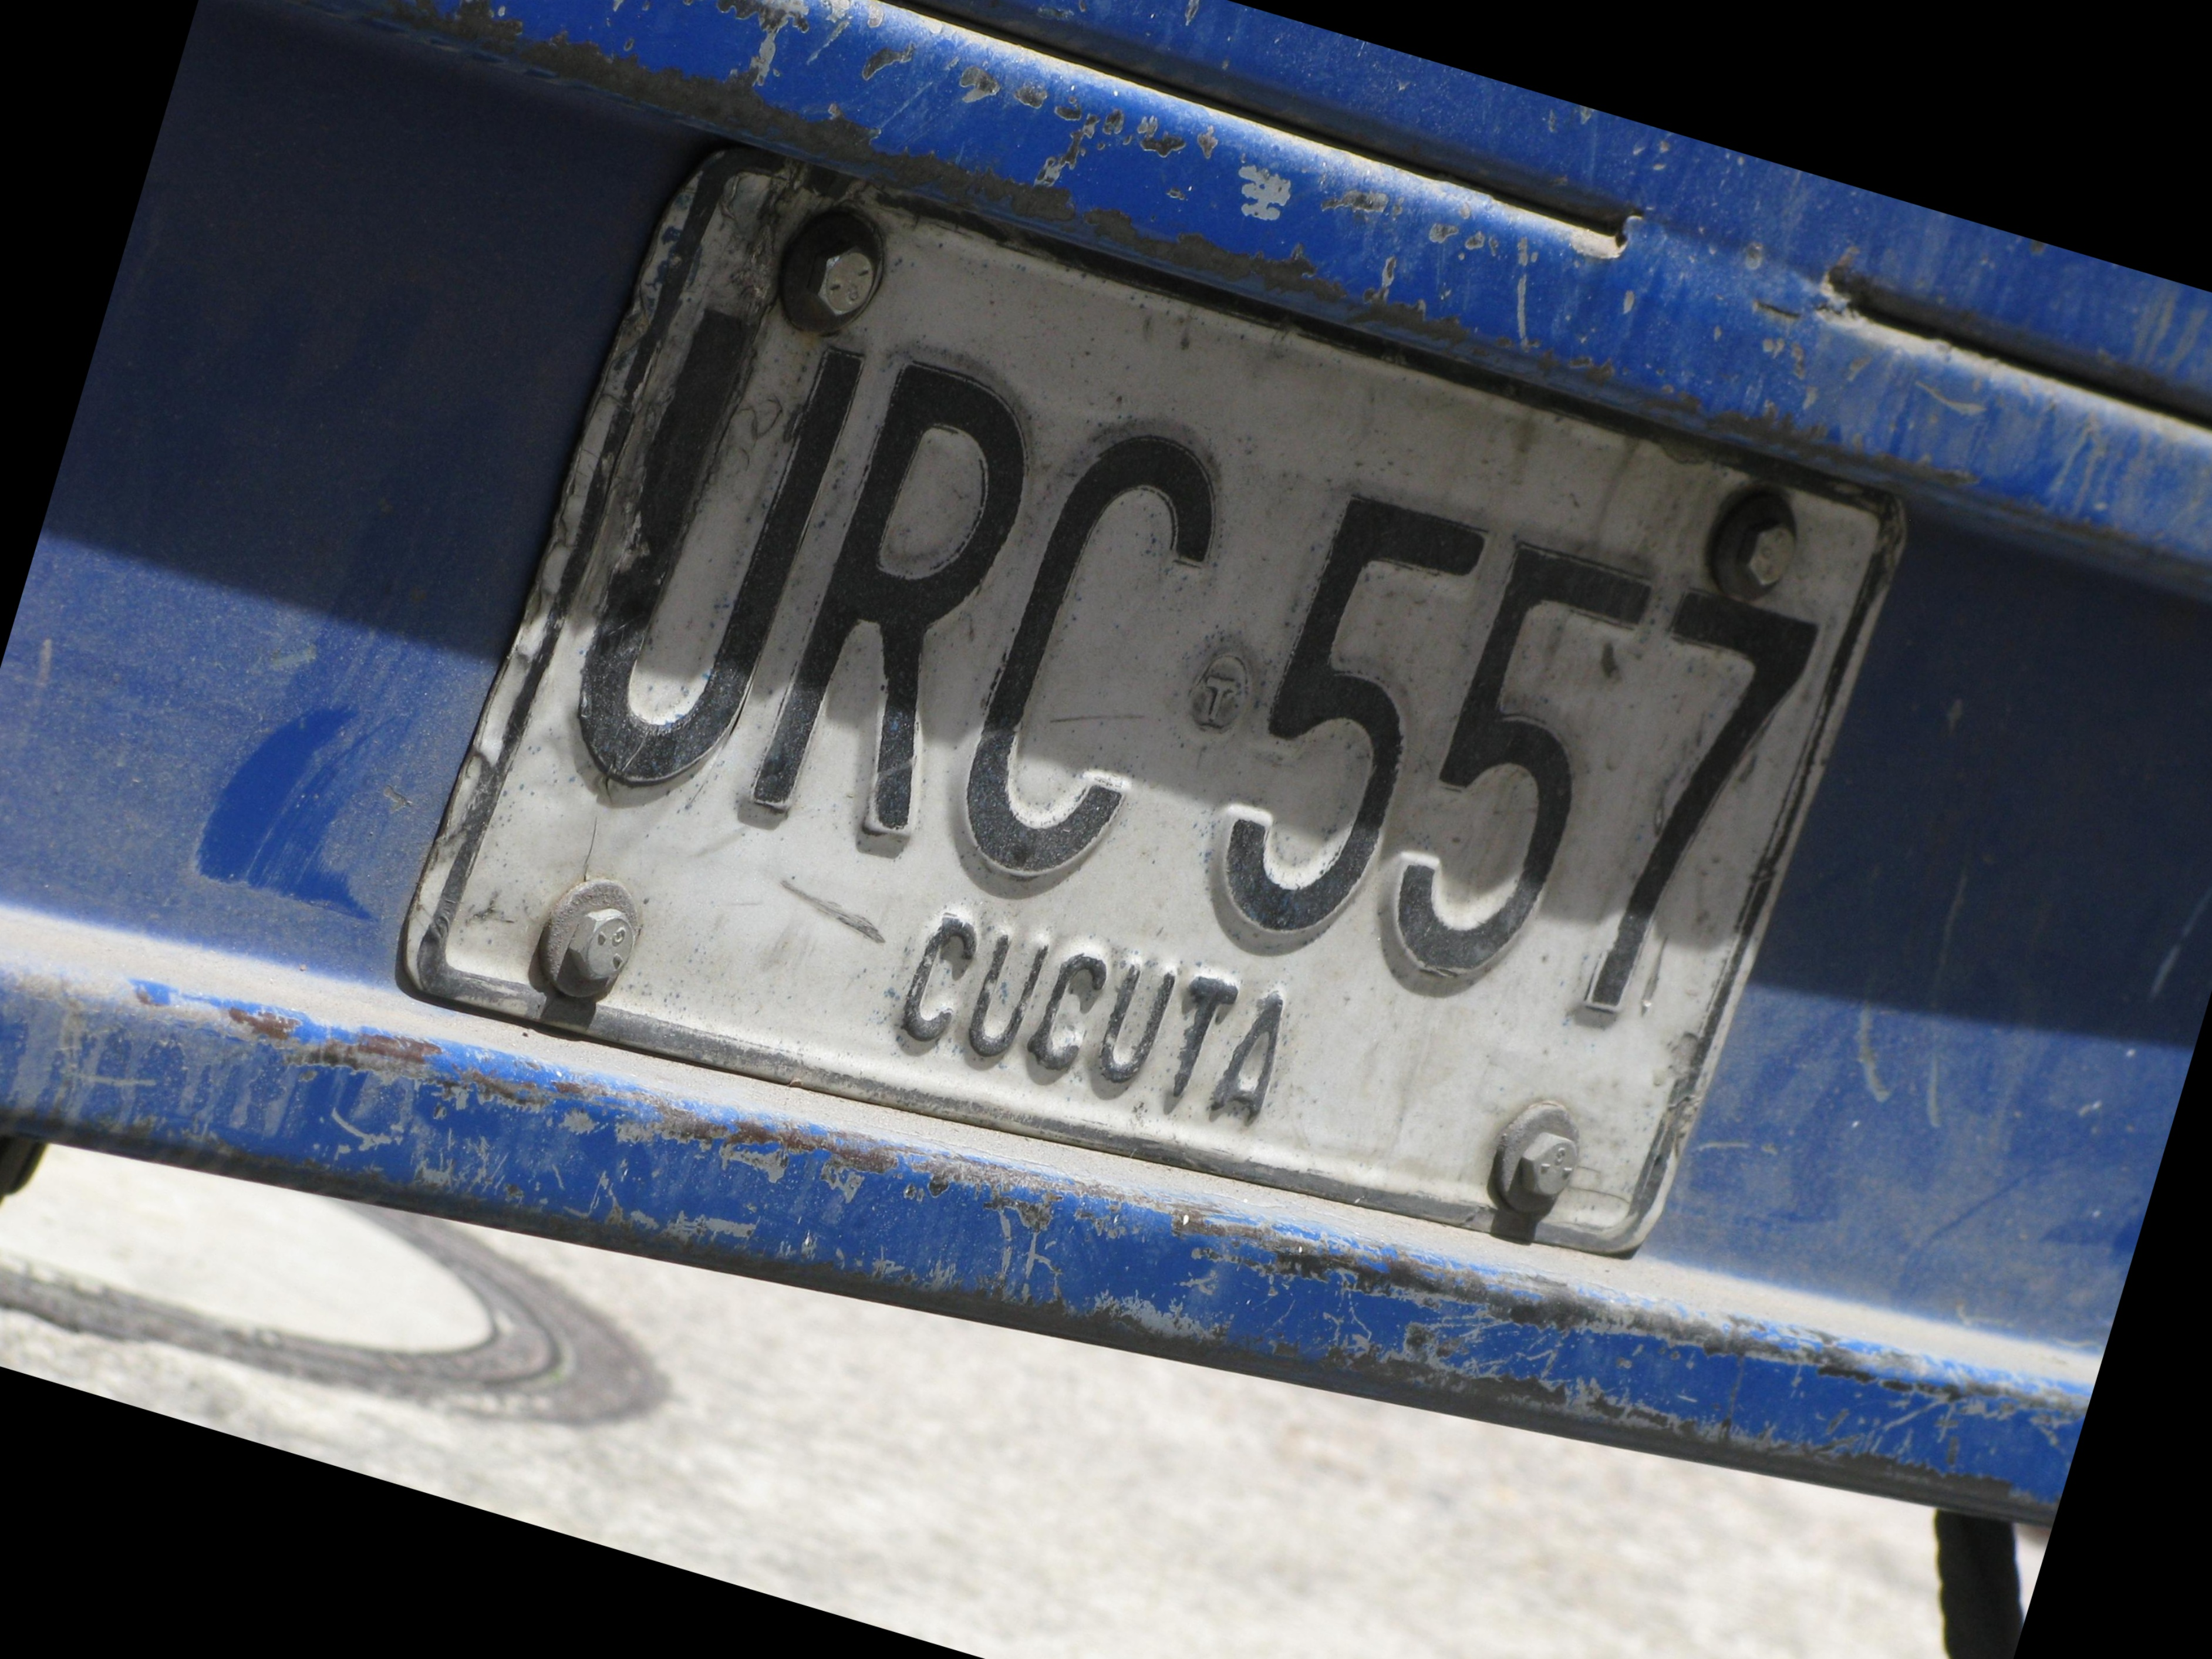placas: (370, 48, 1951, 1395)
